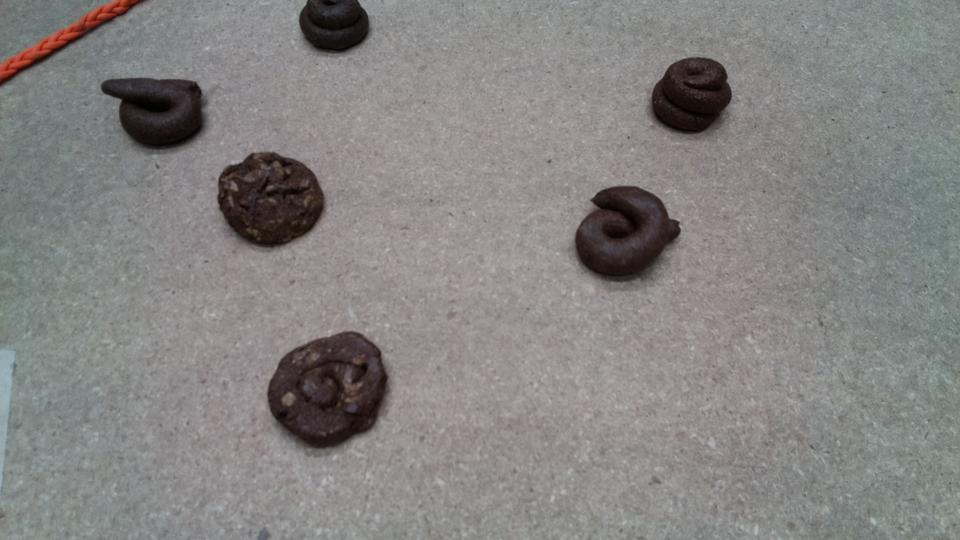poop: (267, 329, 398, 450), (569, 181, 686, 293), (215, 149, 336, 252), (103, 70, 211, 155), (648, 50, 741, 145), (291, 2, 384, 63)
